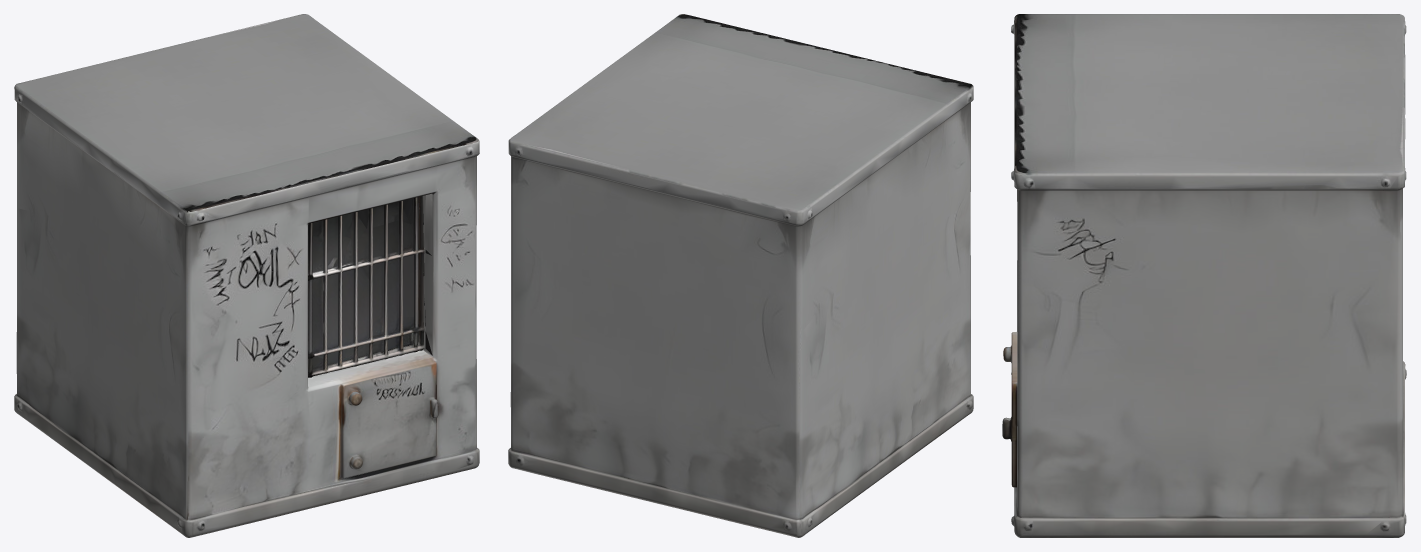
The model's file is prison_cell_walls_002_001.glb.
3 views of the same model, side by side, from view 1: azimuth 30°, elevation 25°; view 2: azimuth 150°, elevation 25°; view 3: azimuth 270°, elevation 25° (orthographic). The views are drawn at different scales.
Parts seen in each view (by area): view 1: 0ac5196d-f414-4b27-99c4-77ccd94ff93c_texturing.obj; view 2: 0ac5196d-f414-4b27-99c4-77ccd94ff93c_texturing.obj; view 3: 0ac5196d-f414-4b27-99c4-77ccd94ff93c_texturing.obj.
Boxes of the visible parts, x1=… form: 0ac5196d-f414-4b27-99c4-77ccd94ff93c_texturing.obj: x1=14, y1=14, x2=479, y2=537; 0ac5196d-f414-4b27-99c4-77ccd94ff93c_texturing.obj: x1=508, y1=14, x2=973, y2=537; 0ac5196d-f414-4b27-99c4-77ccd94ff93c_texturing.obj: x1=1002, y1=14, x2=1406, y2=537.
Size of the model in its own units: 2.86 by 3 by 3.
1 material, 1 textured.
